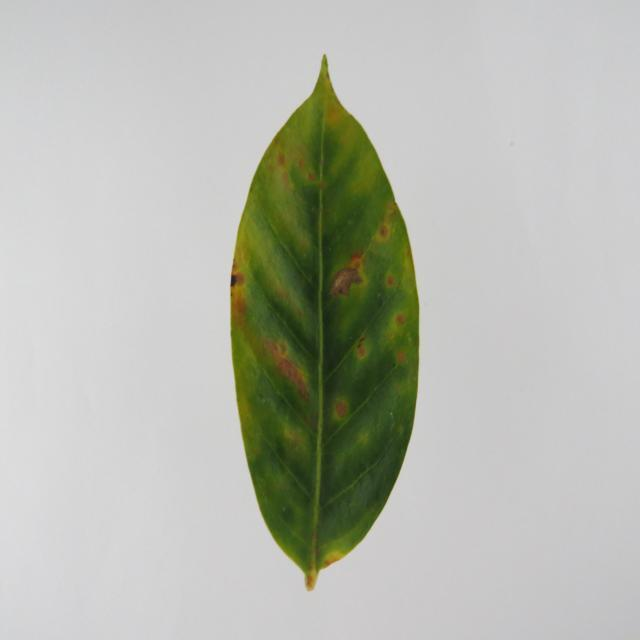DeficienciaNutricional-Magnesio: (230, 58, 419, 590)
